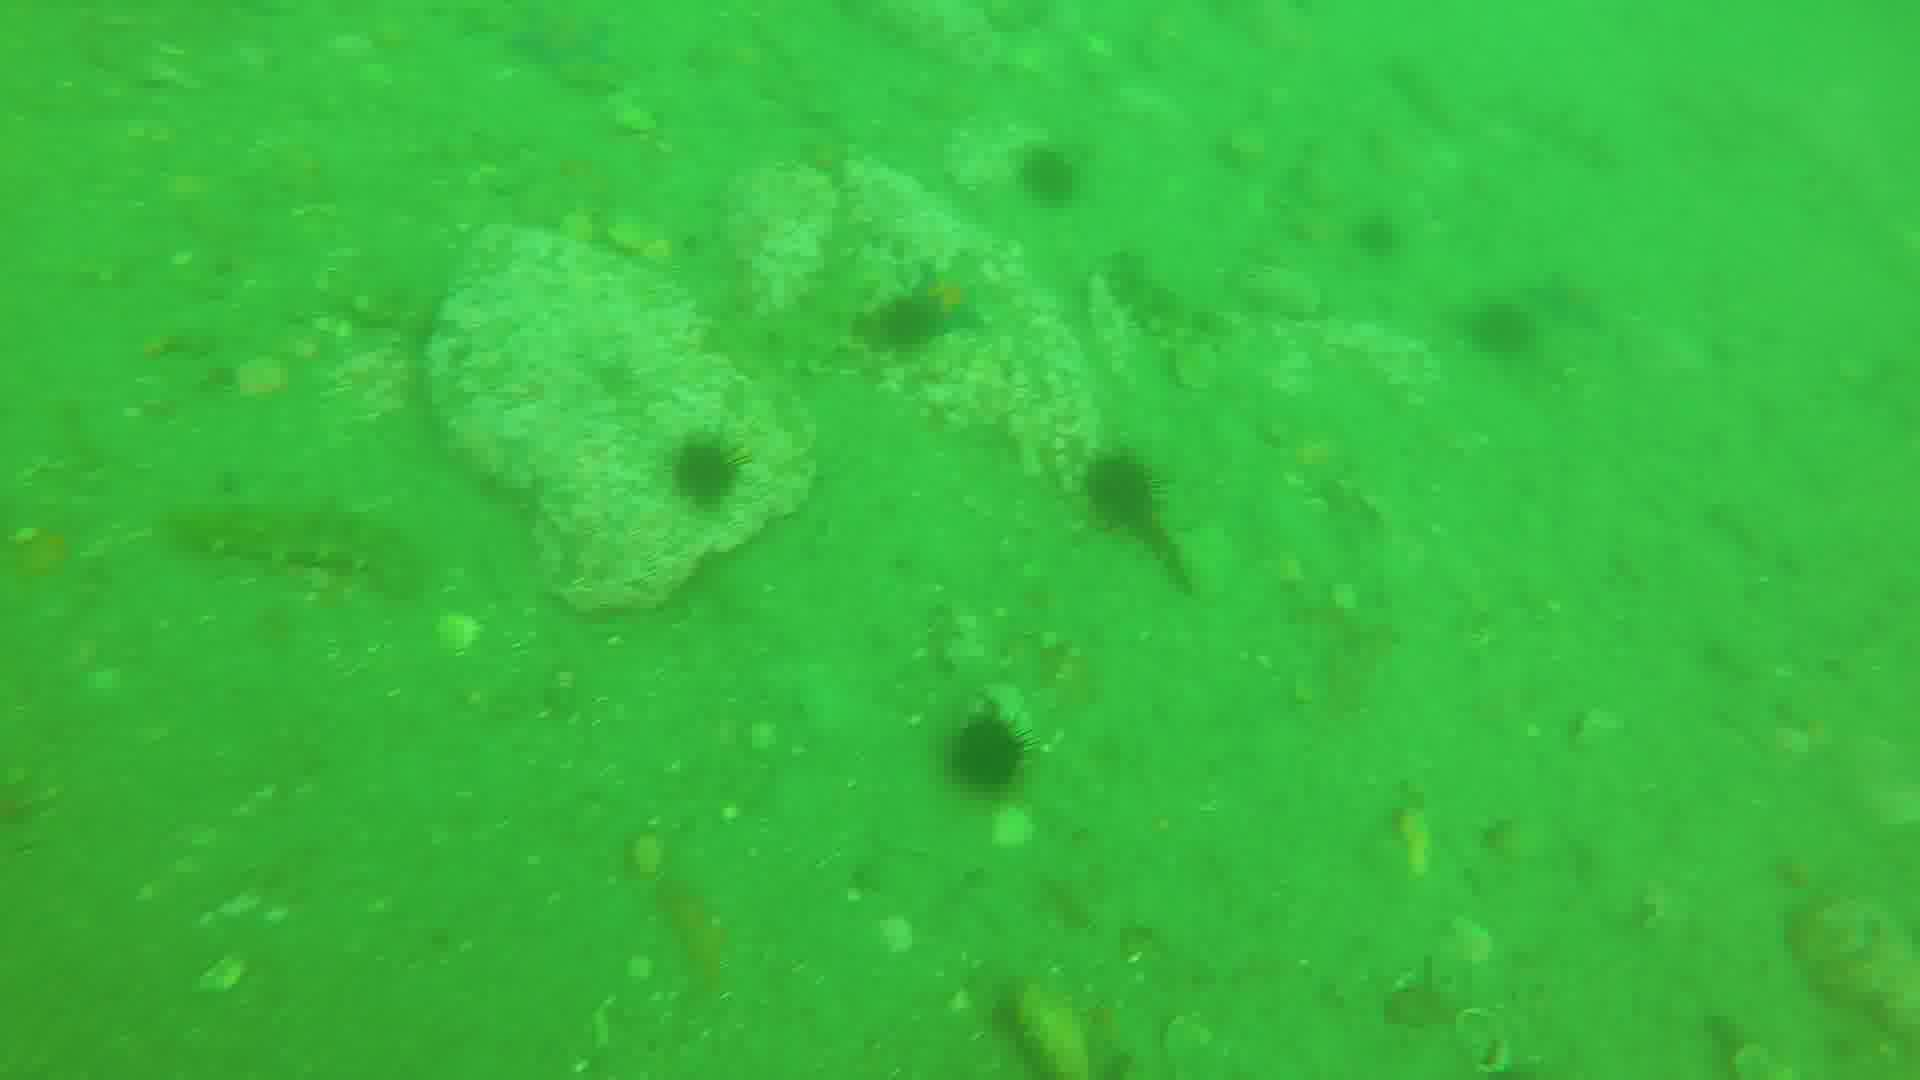echinus: (953, 711, 1025, 796), (1091, 454, 1164, 525), (680, 442, 750, 506), (1018, 146, 1087, 211), (1476, 301, 1538, 357)
holothurian: (171, 497, 411, 589), (713, 253, 872, 380), (1102, 240, 1229, 347)
starfish: (510, 3, 615, 67), (915, 266, 988, 339), (1542, 269, 1607, 334)
